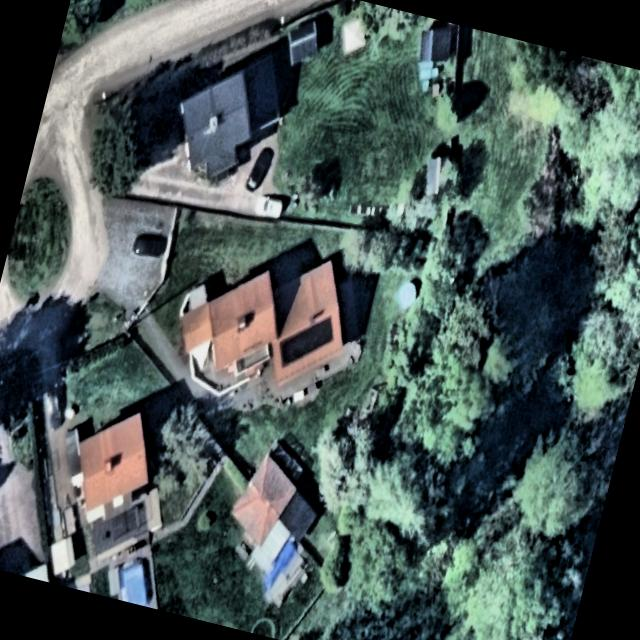roof_pv: (274, 304, 341, 378)
